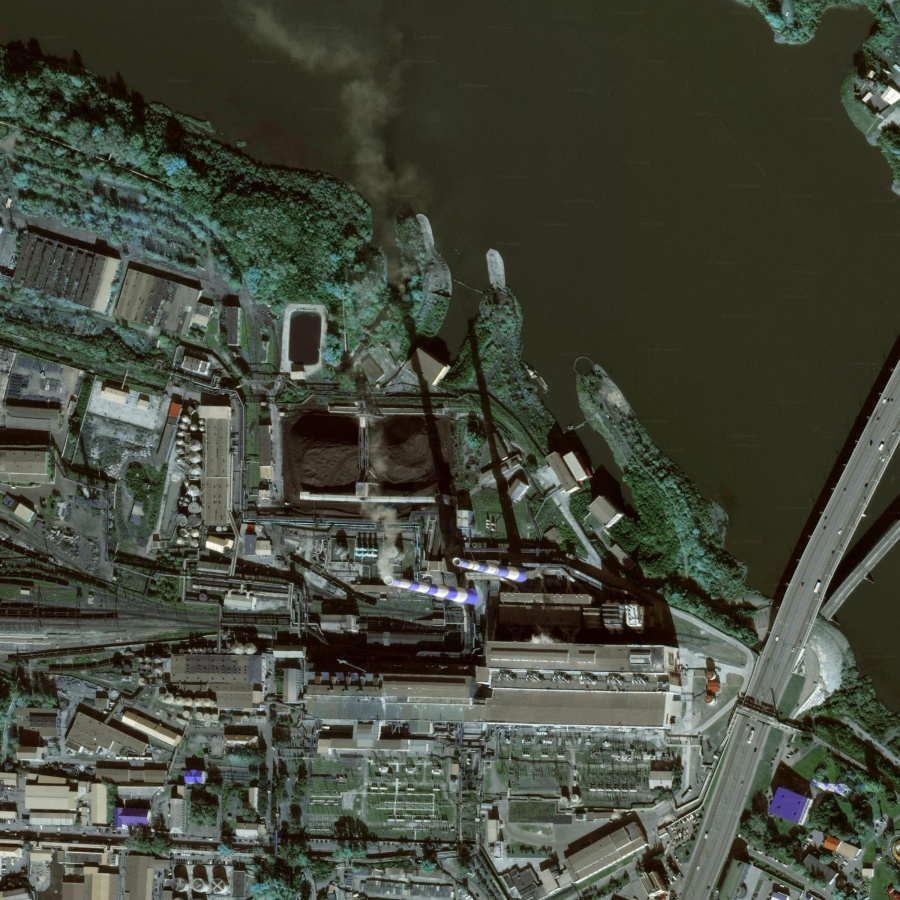PowerPlant: (262, 378, 666, 722)
